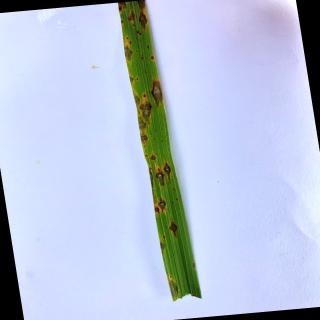Blast: (150, 78, 164, 107), (162, 157, 173, 182), (167, 274, 180, 295), (137, 11, 150, 31), (168, 217, 180, 238), (155, 168, 167, 188), (140, 101, 152, 120), (123, 45, 133, 61), (127, 10, 137, 25), (148, 168, 155, 189), (158, 195, 166, 212), (138, 118, 149, 130), (132, 92, 141, 106), (153, 204, 162, 217), (137, 0, 146, 11), (149, 152, 158, 163), (118, 2, 126, 14), (140, 132, 149, 142), (128, 74, 135, 83), (141, 92, 147, 99), (150, 54, 155, 62), (125, 35, 130, 41), (136, 31, 142, 36), (121, 19, 124, 24)
